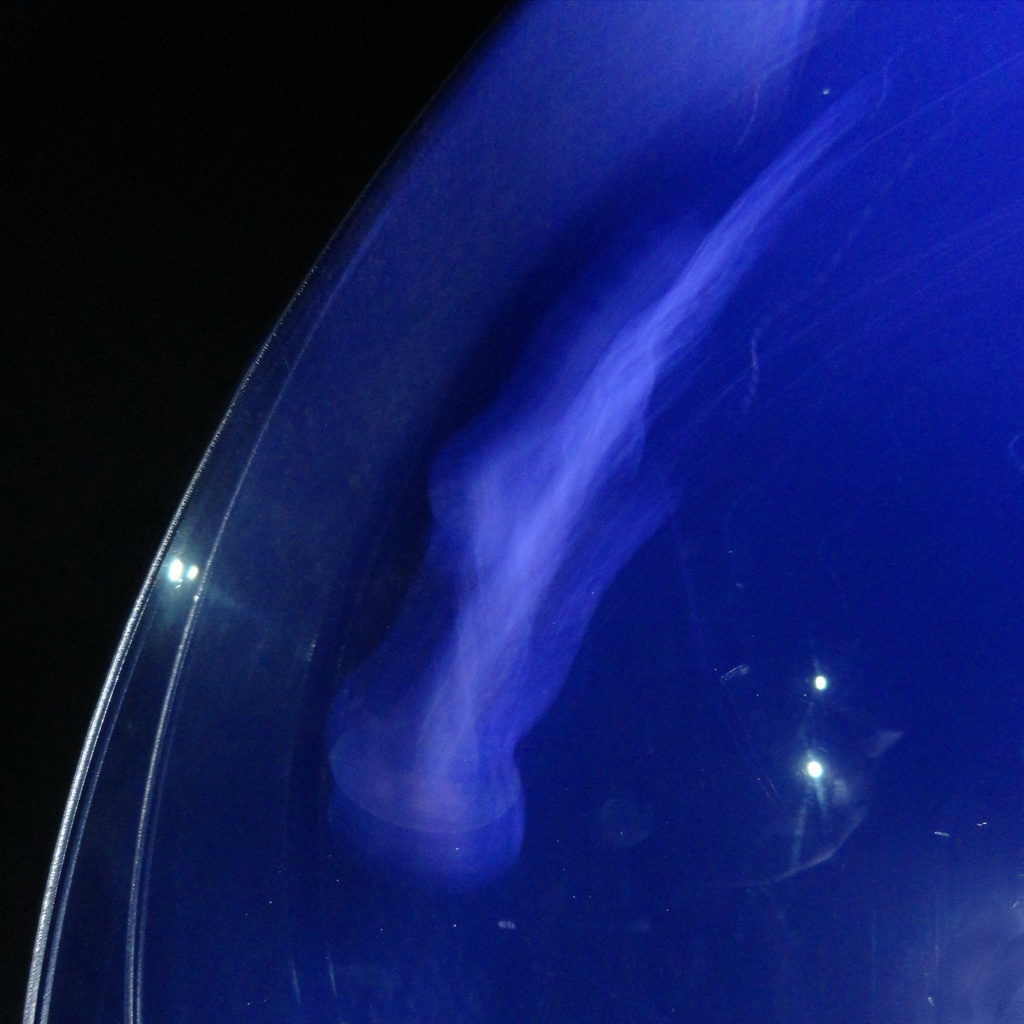Jellyfish: (314, 46, 1023, 887)
